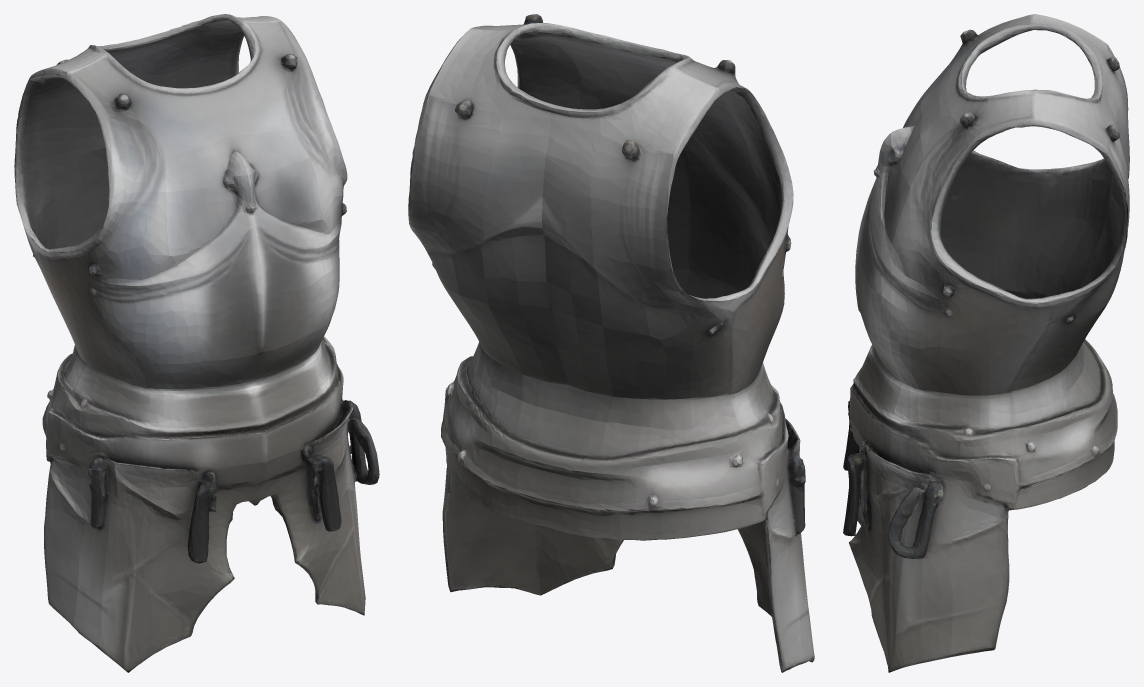
Rendered from cuirass1.fbx.
3 views of the same model, side by side, from view 1: azimuth 30°, elevation 25°; view 2: azimuth 150°, elevation 25°; view 3: azimuth 270°, elevation 25° (orthographic). The views are drawn at different scales.
Visible parts, largest first — view 1: geometry_0; view 2: geometry_0; view 3: geometry_0.
Part boxes in pixels (x1,y1,x2,y2): geometry_0: [14, 14, 379, 672]; geometry_0: [408, 14, 814, 672]; geometry_0: [843, 14, 1129, 672].
Bounding box in the file's own units: 0.5422 × 0.9915 × 0.4618.
Materials: 1 (1 with a texture image).
